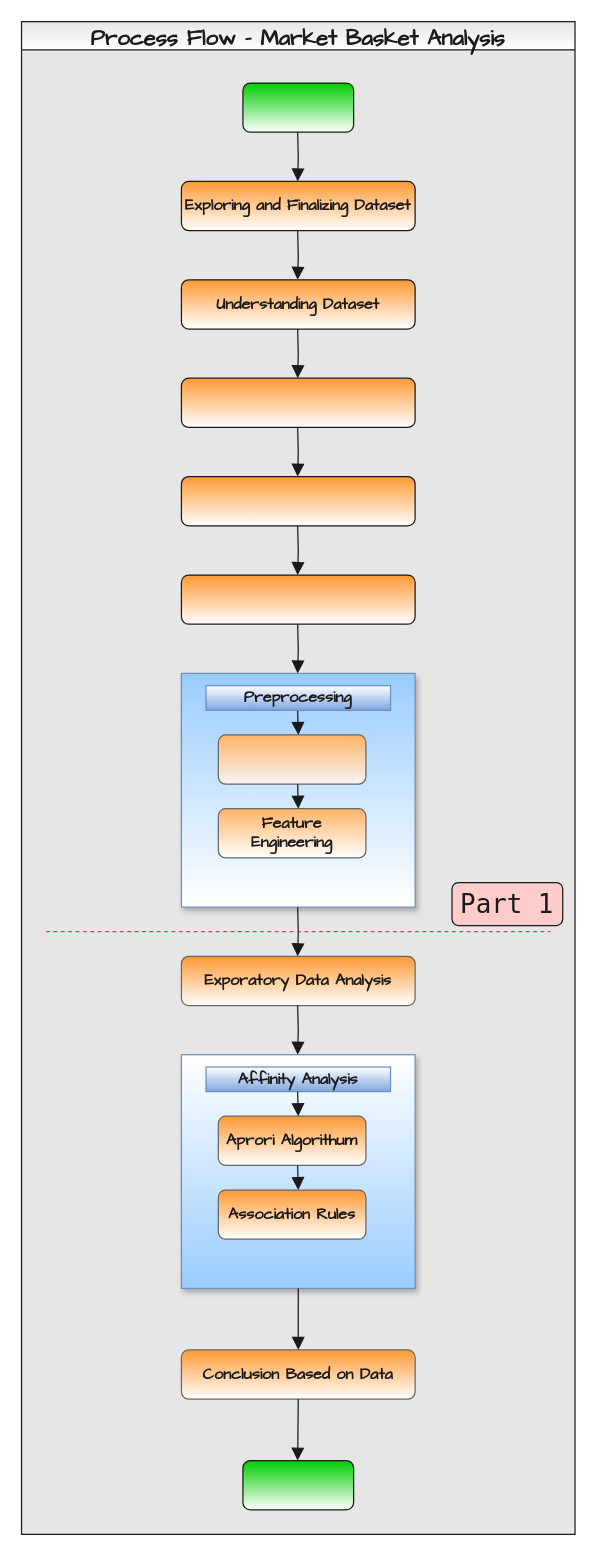
Some shapes in this 597 by 1556 pixel diagram are drawn without their labels. Here are the shapes that lost their labels. From the top down, the centre of each, then its label:
At pixel 298 107: "START".
At pixel 297 402: "Defining Objective".
At pixel 297 500: "Loading Dataset".
At pixel 297 599: "Getting General Information of Dataset".
At pixel 291 759: "Cleaning Dataset".
At pixel 298 1484: "FINISH".
